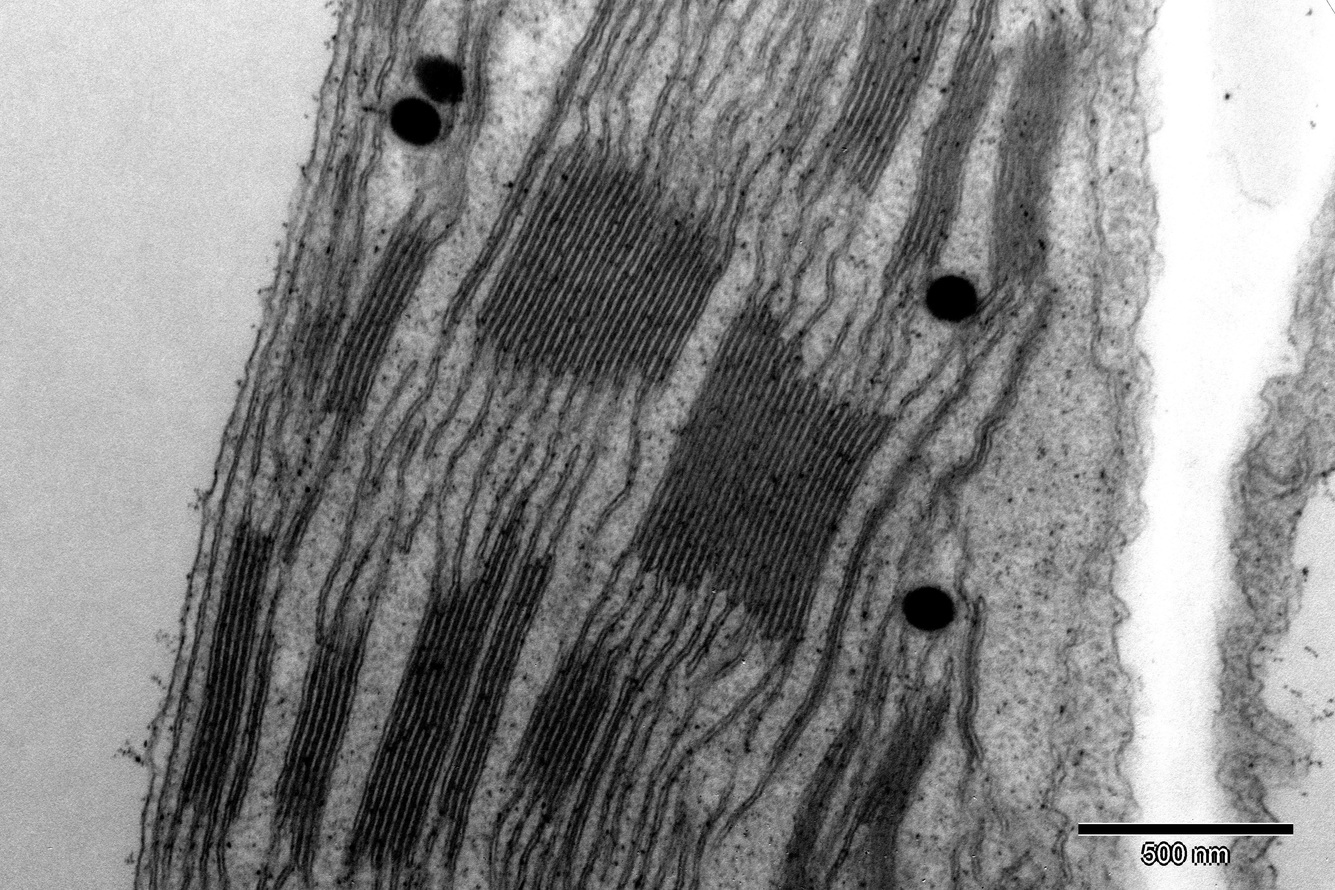granum: (625, 297, 898, 644), (474, 137, 739, 411), (339, 511, 530, 874), (435, 559, 555, 825), (320, 213, 453, 442), (890, 0, 1002, 269), (175, 523, 277, 818), (817, 0, 961, 201), (268, 610, 372, 872), (985, 18, 1073, 292), (504, 638, 630, 816), (851, 692, 951, 890), (768, 0, 877, 164), (782, 708, 871, 870), (297, 302, 348, 364)
